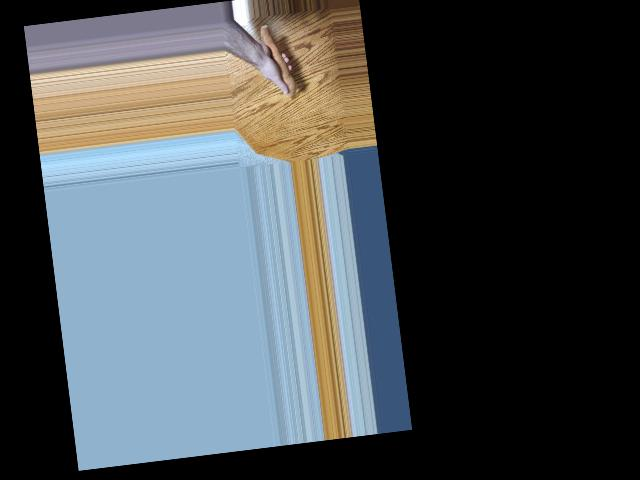sweet_potato: (256, 21, 299, 99)
